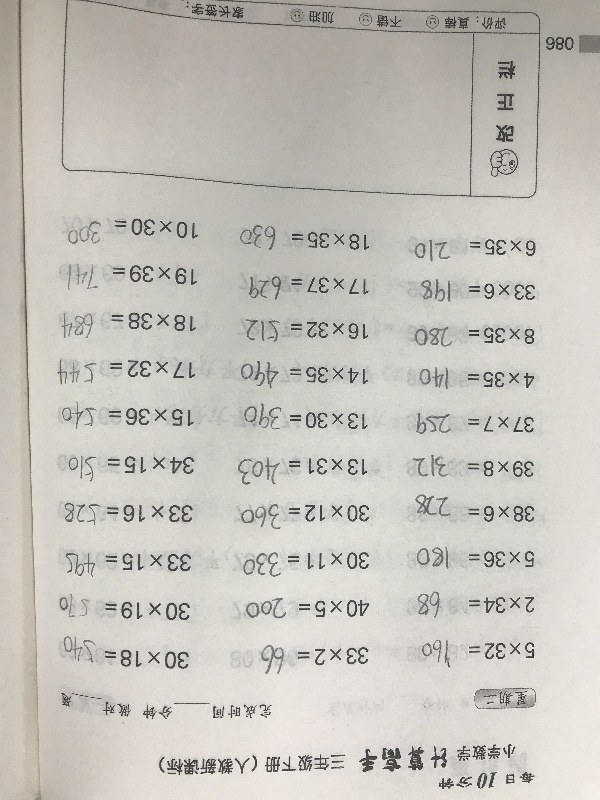equation: (53, 590, 194, 626), (54, 310, 201, 344), (60, 400, 197, 435), (237, 221, 373, 256), (234, 454, 370, 489), (416, 632, 540, 670), (413, 588, 537, 626), (411, 542, 535, 580), (413, 492, 537, 530), (412, 447, 536, 485), (414, 405, 538, 443), (414, 358, 538, 396), (416, 316, 540, 354), (417, 269, 541, 307), (54, 356, 198, 388), (237, 361, 372, 395), (237, 500, 372, 533), (62, 262, 201, 294), (64, 452, 198, 485), (241, 404, 372, 437), (58, 640, 193, 672), (239, 548, 372, 580), (257, 640, 372, 677), (62, 549, 194, 581), (61, 500, 197, 531), (64, 216, 202, 246), (412, 231, 541, 262), (245, 272, 372, 303), (240, 318, 373, 347), (242, 594, 373, 622)
